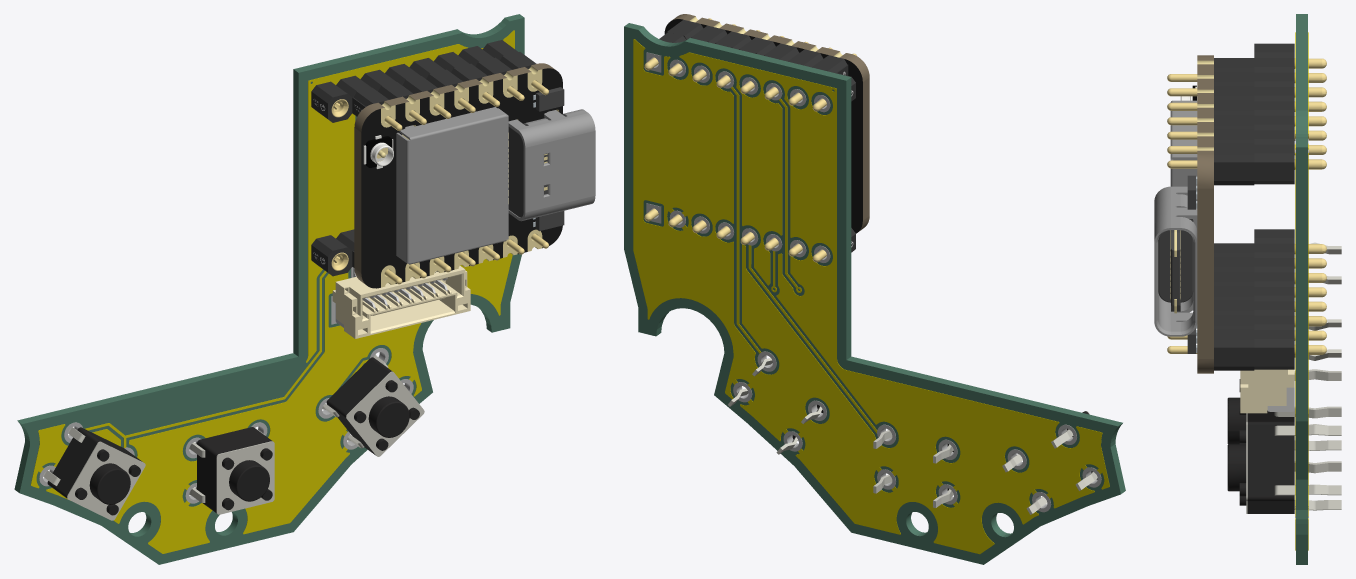
Rendered from pet-keys.glb.
3 views of the same model, side by side, from view 1: azimuth 30°, elevation 25°; view 2: azimuth 150°, elevation 25°; view 3: azimuth 270°, elevation 25° (orthographic). The views are drawn at different scales.
Visible parts, largest first — view 1: o1.12, o1.15, o1.3.1.1.2, o1.3.1.1.6, o1.3.1.1.1.1.19, o1.1.1, o1.6.1, o1.8.1, o1.5.1, o1.4.1, o1.2.1, o1.9.1 (+4 smaller); view 2: o1.12, o1.15, o1.13, o1.3.1.1.6, o1.2.1, o1.4.1, o1.9.1, o1.11.1, o1.5.1, o1.6.1; view 3: o1.4.1, o1.11.1, o1.8.1, o1.15, o1.3.1.1.6, o1.2.1, o1.3.1.1.1.1.19, o1.7.1, o1.9.1, o1.6.1, o1.1.1, o1.3.1.1.1.1.23 (+6 smaller).
Boxes of the visible parts, left/top/right/bottom form: o1.12: left=31, top=30, right=514, bottom=553; o1.15: left=14, top=14, right=524, bottom=564; o1.3.1.1.2: left=396, top=107, right=508, bottom=264; o1.3.1.1.6: left=354, top=63, right=562, bottom=288; o1.3.1.1.1.1.19: left=508, top=109, right=595, bottom=221; o1.1.1: left=332, top=266, right=470, bottom=338; o1.6.1: left=189, top=427, right=274, bottom=514; o1.8.1: left=322, top=354, right=424, bottom=456; o1.5.1: left=43, top=427, right=145, bottom=520; o1.4.1: left=311, top=40, right=517, bottom=122; o1.2.1: left=426, top=52, right=548, bottom=112; o1.9.1: left=352, top=76, right=451, bottom=130; o1.12: left=633, top=39, right=1109, bottom=554; o1.15: left=624, top=23, right=1125, bottom=564; o1.13: left=646, top=52, right=1101, bottom=512; o1.3.1.1.6: left=664, top=14, right=869, bottom=233; o1.2.1: left=665, top=18, right=784, bottom=55; o1.4.1: left=644, top=32, right=855, bottom=111; o1.9.1: left=764, top=41, right=856, bottom=75; o1.11.1: left=644, top=208, right=855, bottom=262; o1.5.1: left=1002, top=411, right=1097, bottom=514; o1.6.1: left=873, top=430, right=953, bottom=507; o1.4.1: left=1254, top=43, right=1326, bottom=184; o1.11.1: left=1254, top=229, right=1326, bottom=369; o1.8.1: left=1227, top=421, right=1341, bottom=513; o1.15: left=1296, top=14, right=1307, bottom=564; o1.3.1.1.6: left=1197, top=55, right=1213, bottom=373; o1.2.1: left=1167, top=100, right=1254, bottom=185; o1.3.1.1.1.1.19: left=1154, top=186, right=1197, bottom=336; o1.7.1: left=1167, top=286, right=1254, bottom=370; o1.9.1: left=1167, top=58, right=1254, bottom=110; o1.6.1: left=1227, top=369, right=1341, bottom=473; o1.1.1: left=1240, top=369, right=1294, bottom=413; o1.3.1.1.1.1.23: left=1158, top=199, right=1197, bottom=302.
Size of the model in its own units: 0.0538 by 0.0455 by 0.014.
